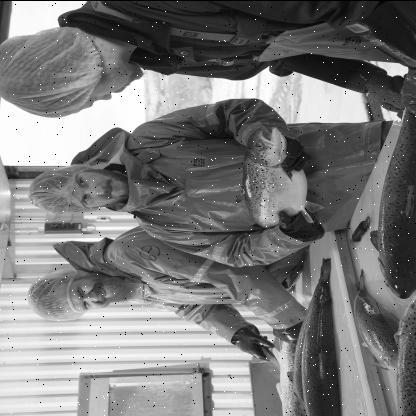fish: (368, 64, 416, 297), (235, 130, 324, 242)
